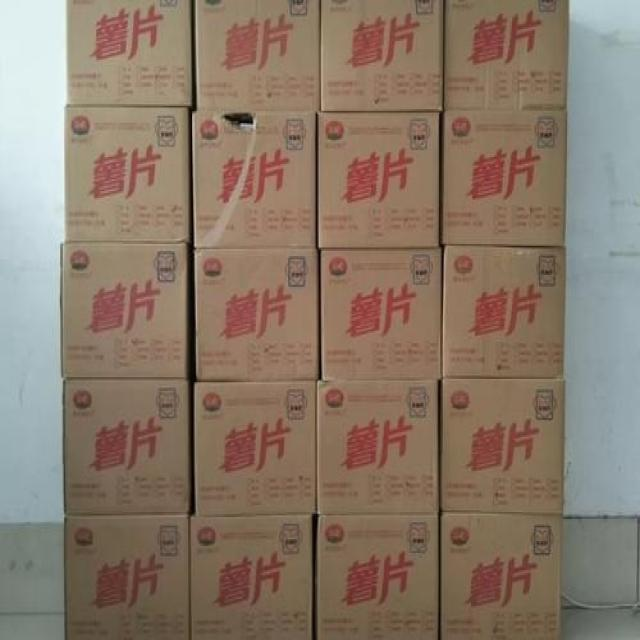box: (193, 108, 319, 246), (442, 377, 567, 515), (317, 113, 442, 249), (65, 108, 192, 241), (195, 375, 315, 515), (193, 247, 319, 379), (63, 244, 186, 379), (442, 109, 564, 244), (444, 246, 566, 381), (64, 381, 188, 512), (321, 249, 443, 381), (320, 381, 439, 515), (64, 515, 189, 640), (439, 512, 563, 637), (317, 514, 438, 637), (191, 517, 312, 640), (196, 2, 321, 109), (67, 2, 192, 106), (321, 3, 443, 109), (445, 3, 567, 109)
